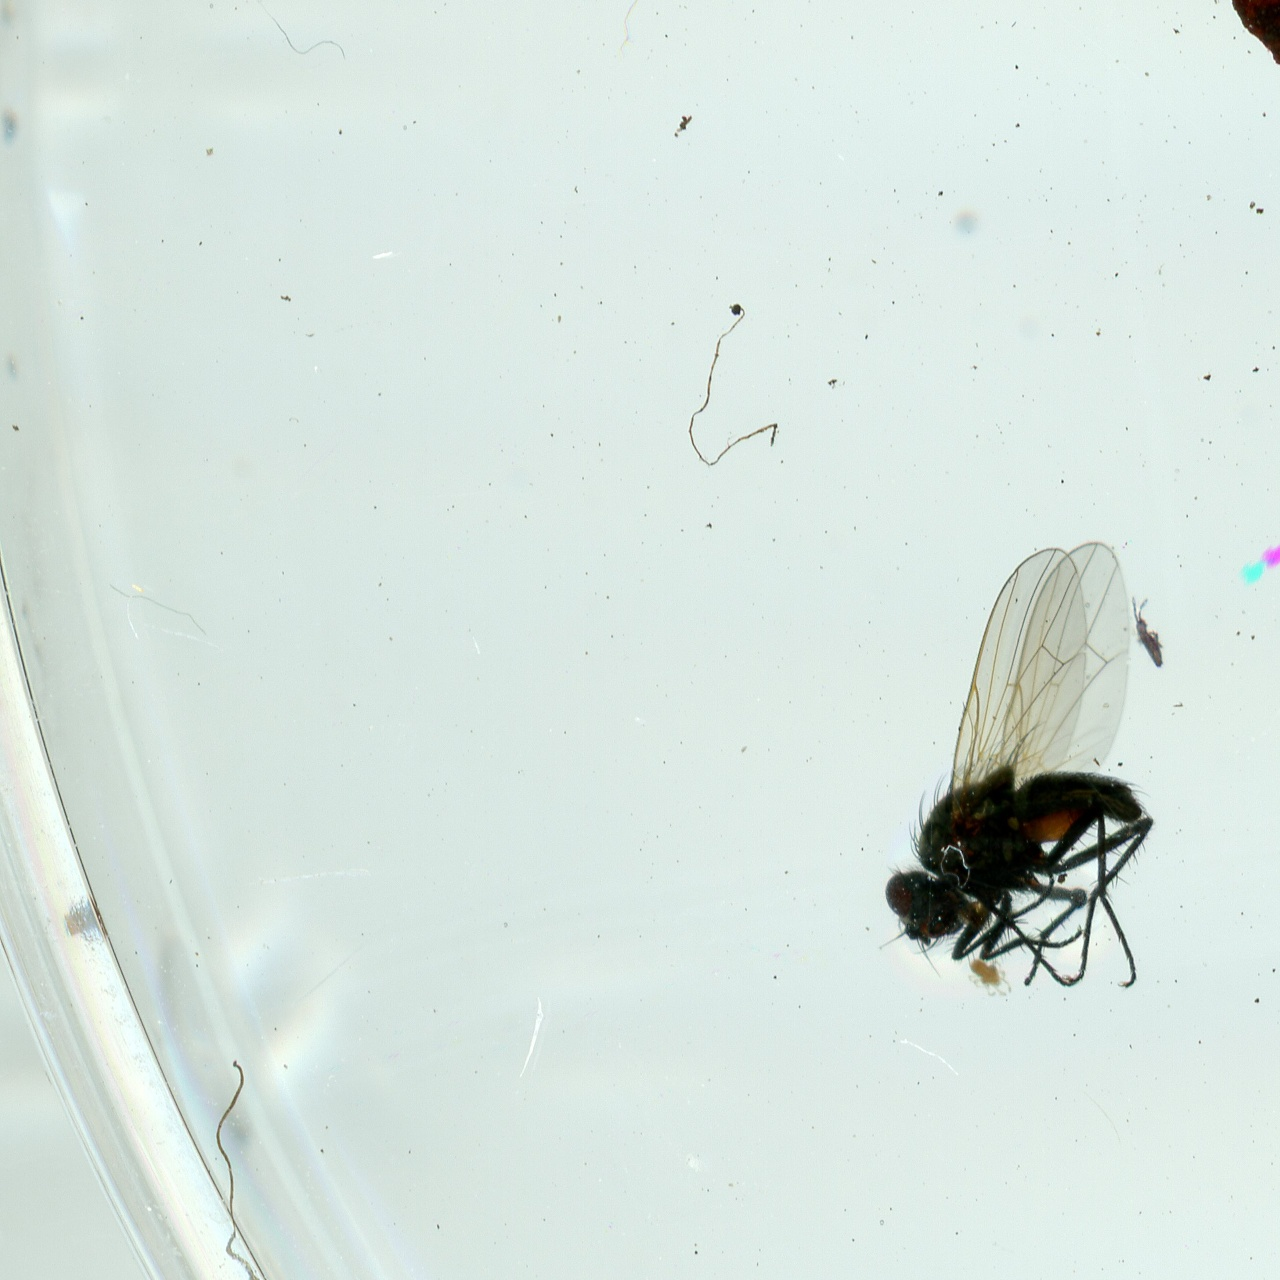arthropod: (869, 536, 1165, 995), (1121, 587, 1176, 676), (963, 953, 1016, 1001)
